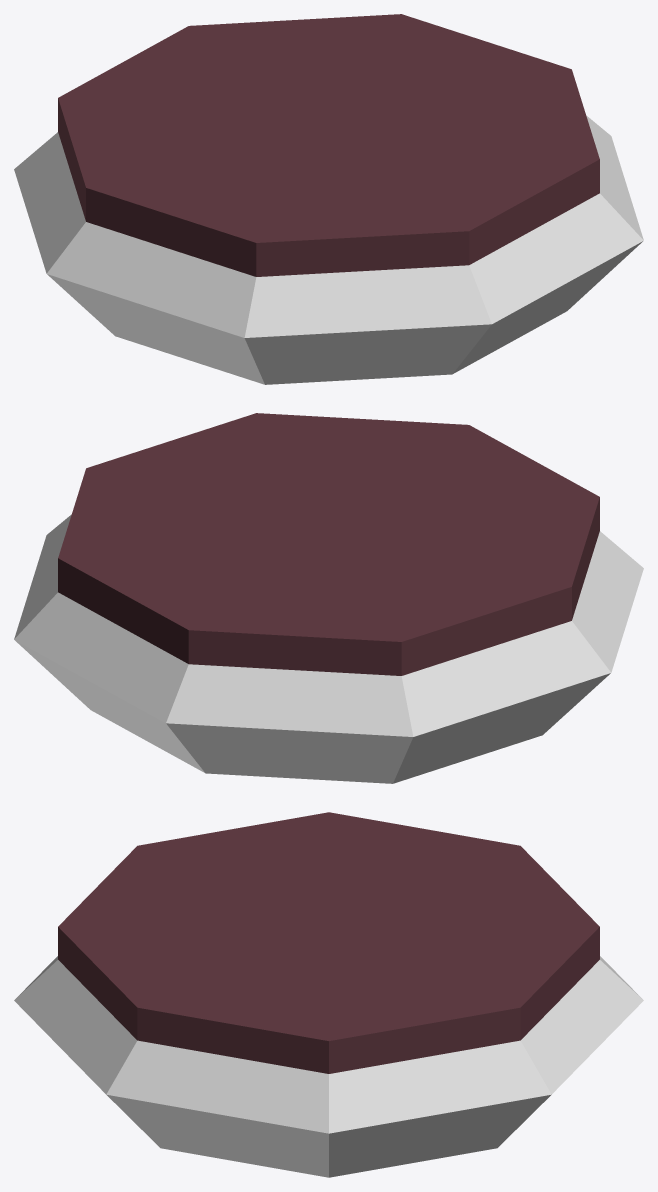
The model's file is furniture-light-ceiling-circle.glb.
3 views of the same model, one above another, from view 1: azimuth 30°, elevation 25°; view 2: azimuth 150°, elevation 25°; view 3: azimuth 270°, elevation 25° (orthographic). The views are drawn at different scales.
Visible parts, largest first — view 1: light-ceiling-circle; view 2: light-ceiling-circle; view 3: light-ceiling-circle.
Part boxes in pixels (x1,y1,x2,y2): light-ceiling-circle: [14, 14, 643, 384]; light-ceiling-circle: [14, 413, 643, 783]; light-ceiling-circle: [14, 812, 643, 1177].
Bounding box in the file's own units: 0.25 × 0.0658 × 0.25.
